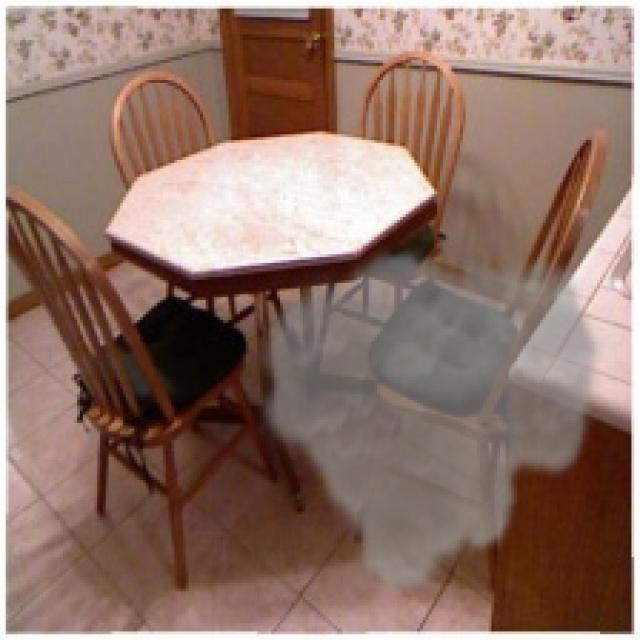Smoke: (248, 246, 606, 603)
